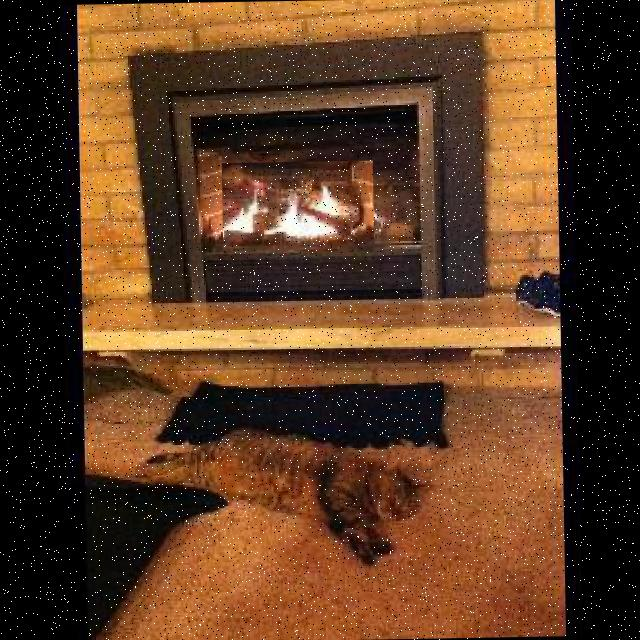fire: (221, 160, 374, 253)
